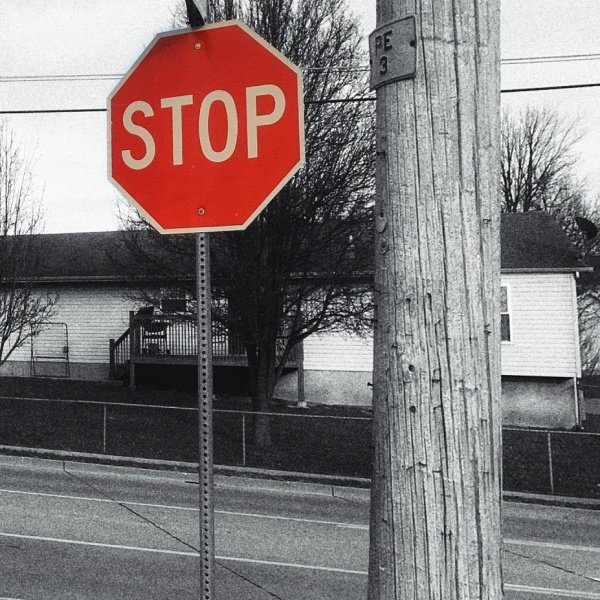stop: (99, 18, 317, 236)
